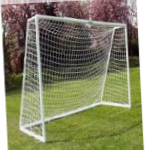goals: (15, 13, 134, 145)
